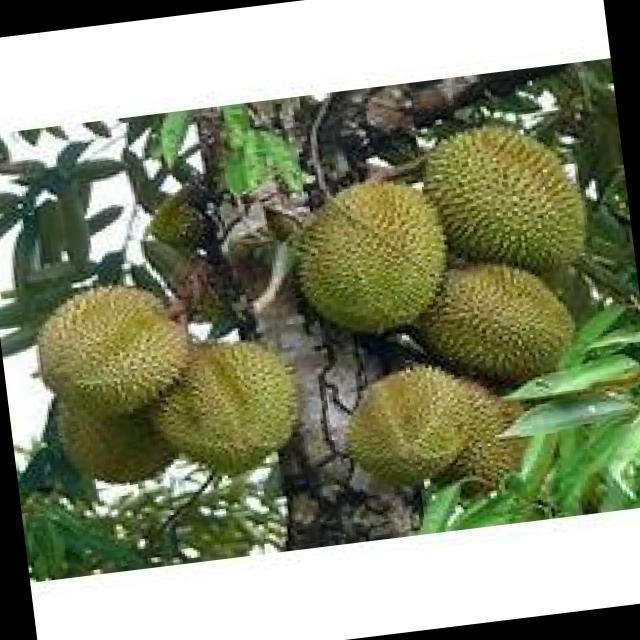fruit: (8, 249, 230, 511), (394, 222, 608, 414), (269, 156, 468, 358), (326, 338, 540, 516), (126, 305, 320, 495)
